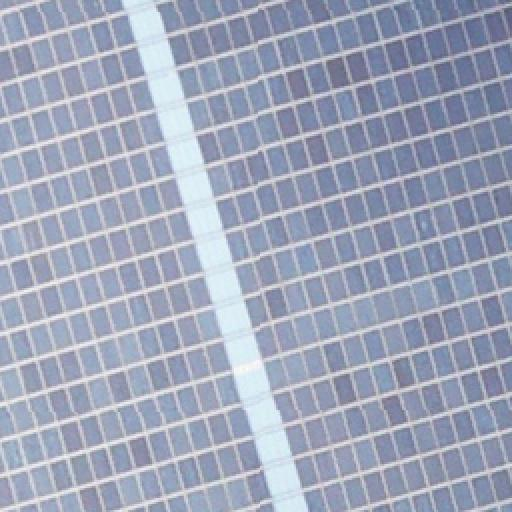solar-panel: (156, 0, 512, 512), (0, 0, 276, 512)
